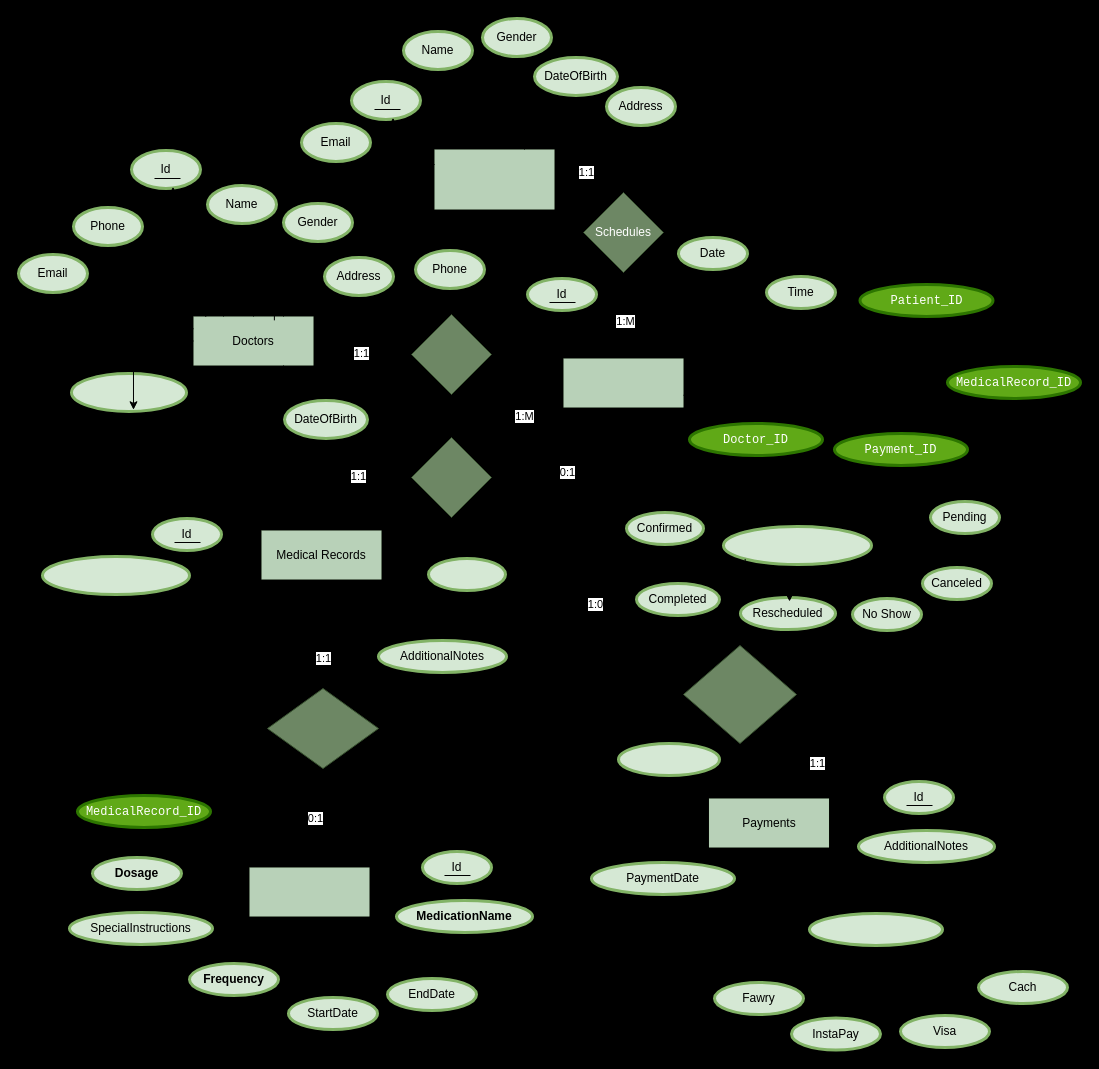
The diagram is 1099 pixels wide and 1069 high, and some of its shapes have lost their labels. Here are the shapes that lost their labels. From the top down, the centre of each, then its label:
At pixel 494 179: "patients".
At pixel 451 354: "Is Assigned".
At pixel 129 392: "Specialization".
At pixel 623 382: "Appointments".
At pixel 451 477: "Results in".
At pixel 797 545: "Appointments Status".
At pixel 115 575: "DescriptionOfTheVisit".
At pixel 466 574: "Diagnosis".
At pixel 739 694: "Payment is For Made".
At pixel 322 728: "Is Issued From".
At pixel 668 759: "AmountPaid".
At pixel 309 891: "Prescriptions".
At pixel 876 929: "PaymentMethod".
